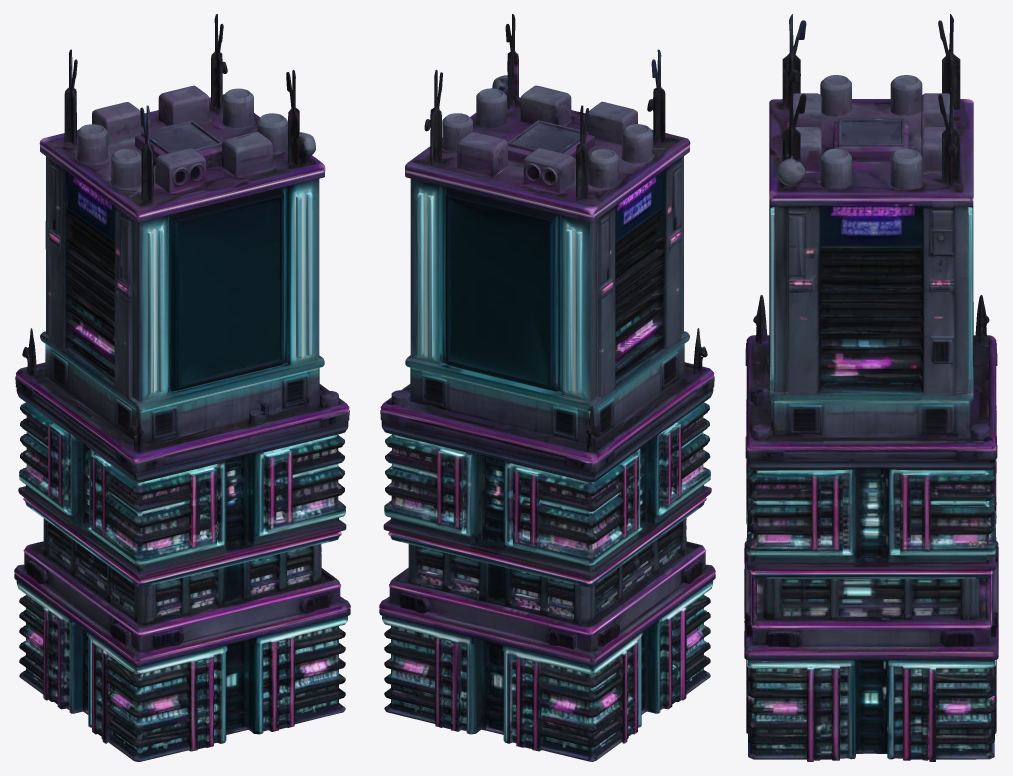
File: tower-a.glb
The picture shows the model from 3 angles, left to right: view 1: azimuth 30°, elevation 25°; view 2: azimuth 150°, elevation 25°; view 3: azimuth 270°, elevation 25°; orthographic projection. The views are drawn at different scales.
Parts seen in each view (by area): view 1: material; view 2: material; view 3: material.
Part boxes in pixels (x1=…): material: x1=14, y1=14, x2=350, y2=761; material: x1=379, y1=14, x2=715, y2=761; material: x1=744, y1=14, x2=998, y2=761.
Bounding box in the file's own units: 0.3907 × 1.09 × 0.3815.
Materials: 1 (1 with a texture image).
